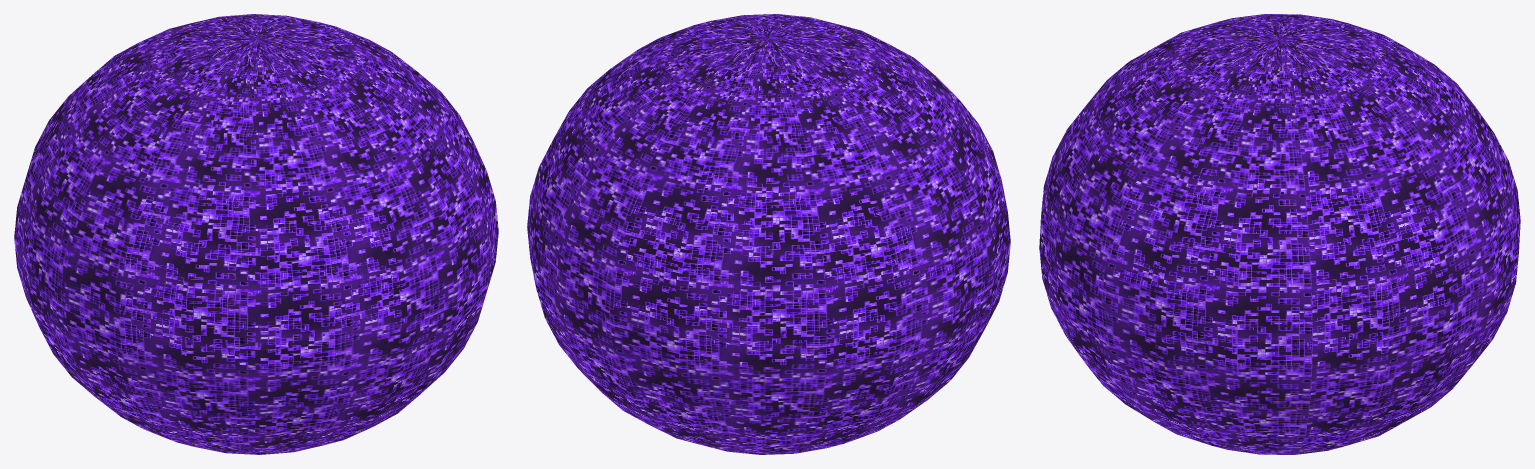
Rendered from Colosseum.glb.
The picture shows the model from 3 angles, left to right: view 1: azimuth 30°, elevation 25°; view 2: azimuth 150°, elevation 25°; view 3: azimuth 270°, elevation 25°; orthographic projection.
Parts seen in each view (by area): view 1: Sphere001; view 2: Sphere001; view 3: Sphere001.
Part boxes in pixels (x1,y1,x2,y2): Sphere001: [14, 14, 498, 454]; Sphere001: [527, 14, 1010, 454]; Sphere001: [1039, 14, 1520, 454].
Size of the model in its own units: 160 by 144 by 160.
2 materials, 2 textured.
